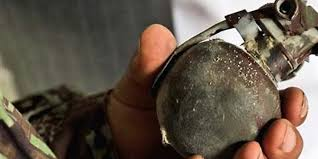bomb: (154, 1, 314, 157)
